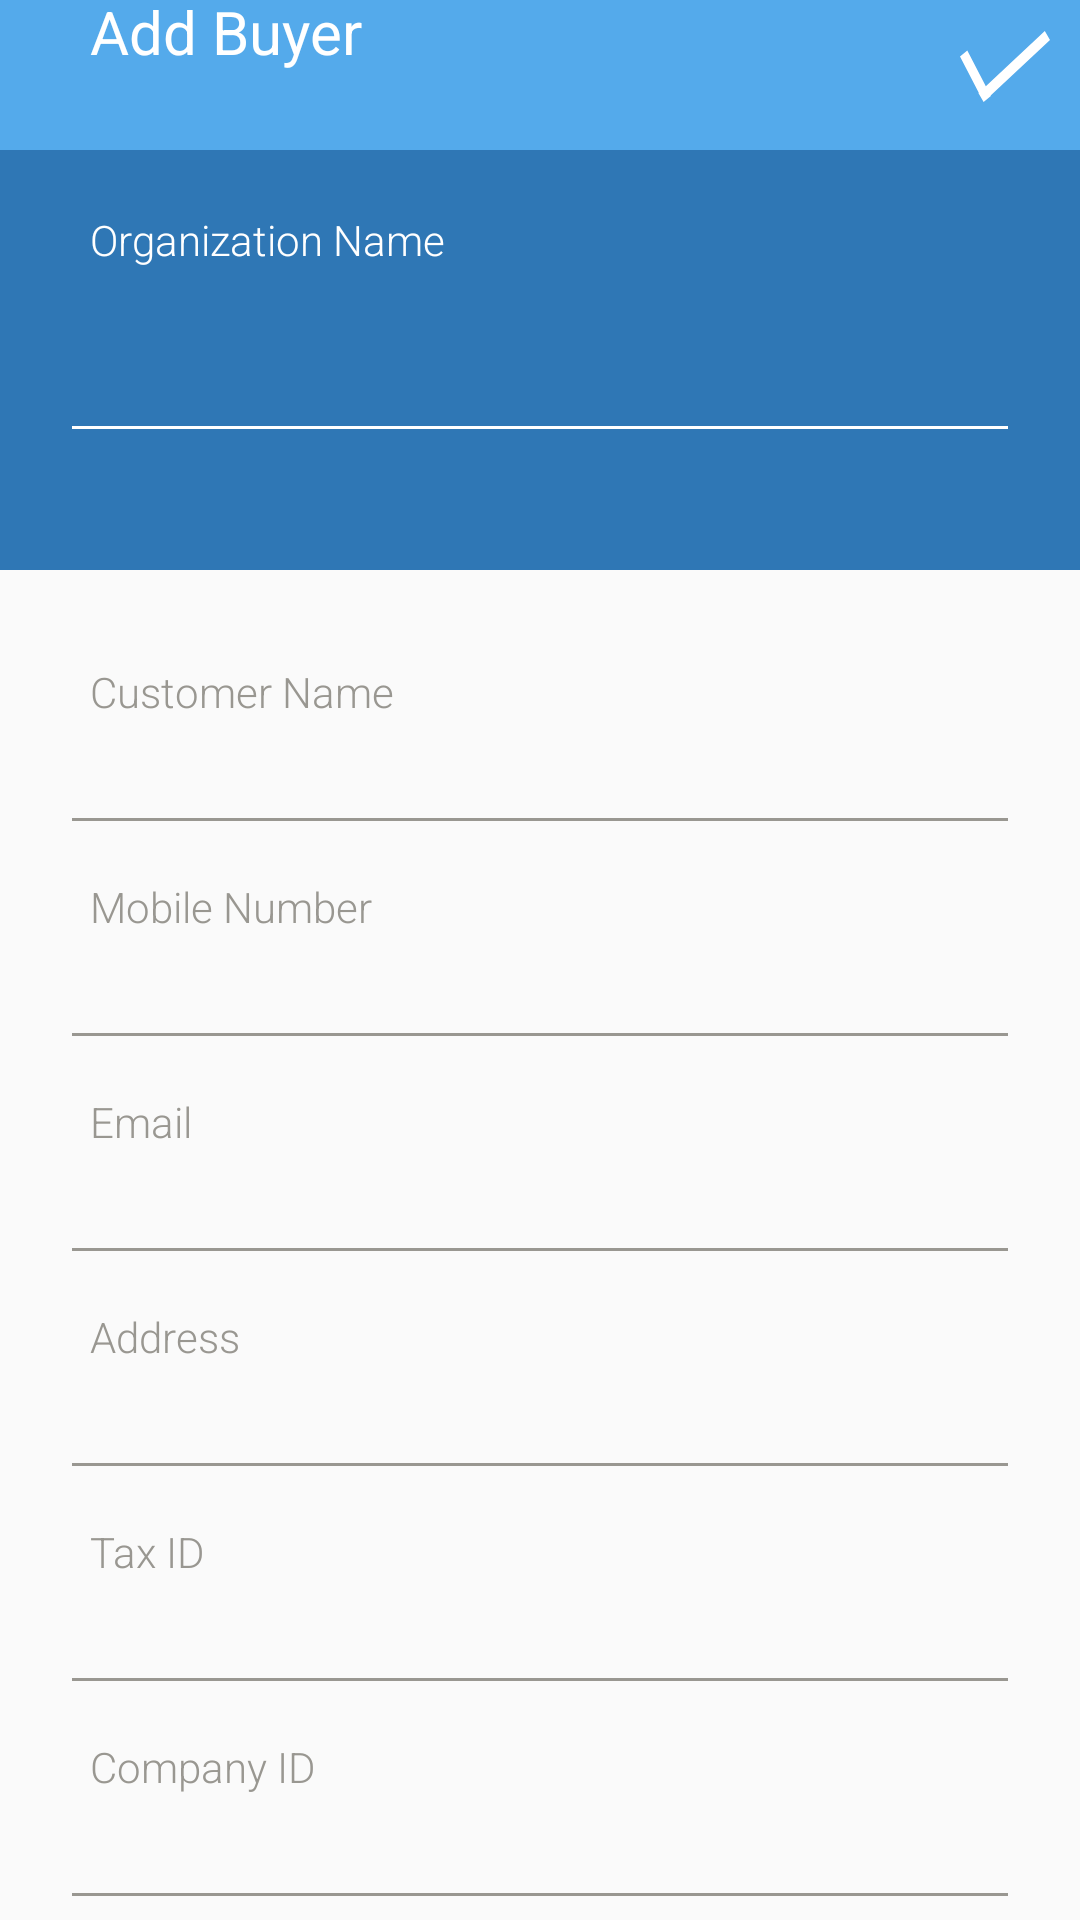

Locate icon controls on the screen. Image size 1080 × 1920, boxes as (x1, y1, x2, y2).
tick: (960, 31, 1050, 102)
